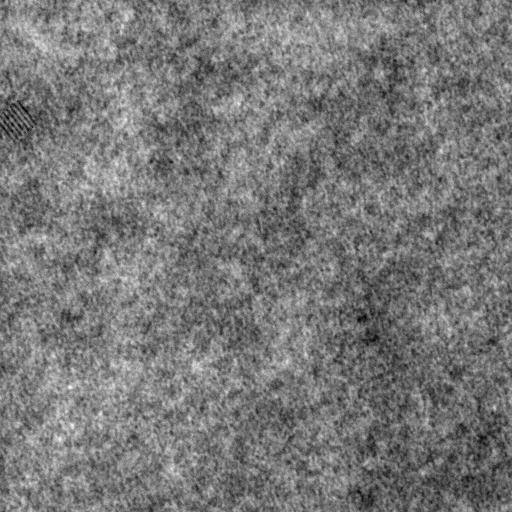DefectTypeB: (1, 99, 38, 143)
